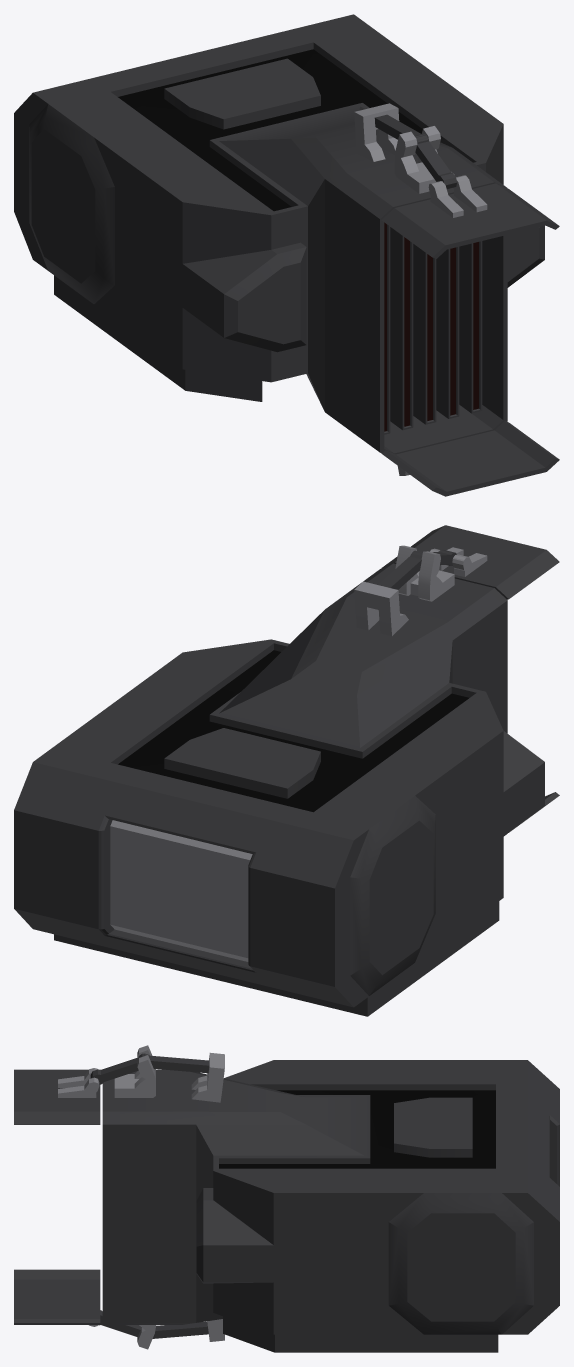
File: eng_Vanes.obj
3 renders of one model, top to bottom at view 1: azimuth 30°, elevation 25°; view 2: azimuth 150°, elevation 25°; view 3: azimuth 270°, elevation 25°, orthographic. The views are drawn at different scales.
Parts seen in each view (by area): view 1: eng_Vanes; view 2: eng_Vanes; view 3: eng_Vanes.
Boxes of the visible parts, x1=… form: eng_Vanes: x1=14, y1=14, x2=559, y2=496; eng_Vanes: x1=14, y1=525, x2=559, y2=1016; eng_Vanes: x1=14, y1=1045, x2=559, y2=1352.
Size of the model in its own units: 2.06 by 1.99 by 3.4.
